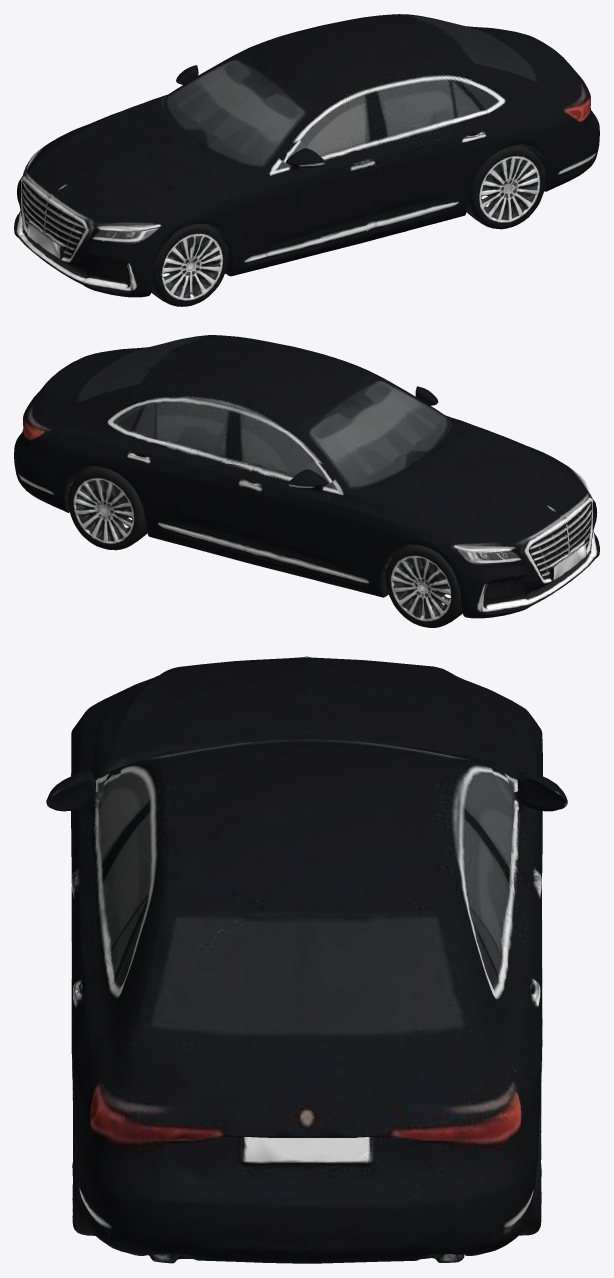
File: rank4_v1.glb
The picture shows the model from 3 angles, top to bottom: view 1: azimuth 30°, elevation 25°; view 2: azimuth 150°, elevation 25°; view 3: azimuth 270°, elevation 25°; orthographic projection. The views are drawn at different scales.
Size of the model in its own units: 1.9 by 0.5652 by 0.8163.
Materials: 1 (1 with a texture image).
